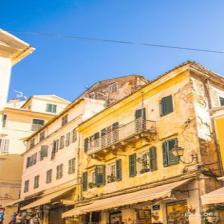yellow: (8, 61, 224, 224), (215, 116, 224, 171)
